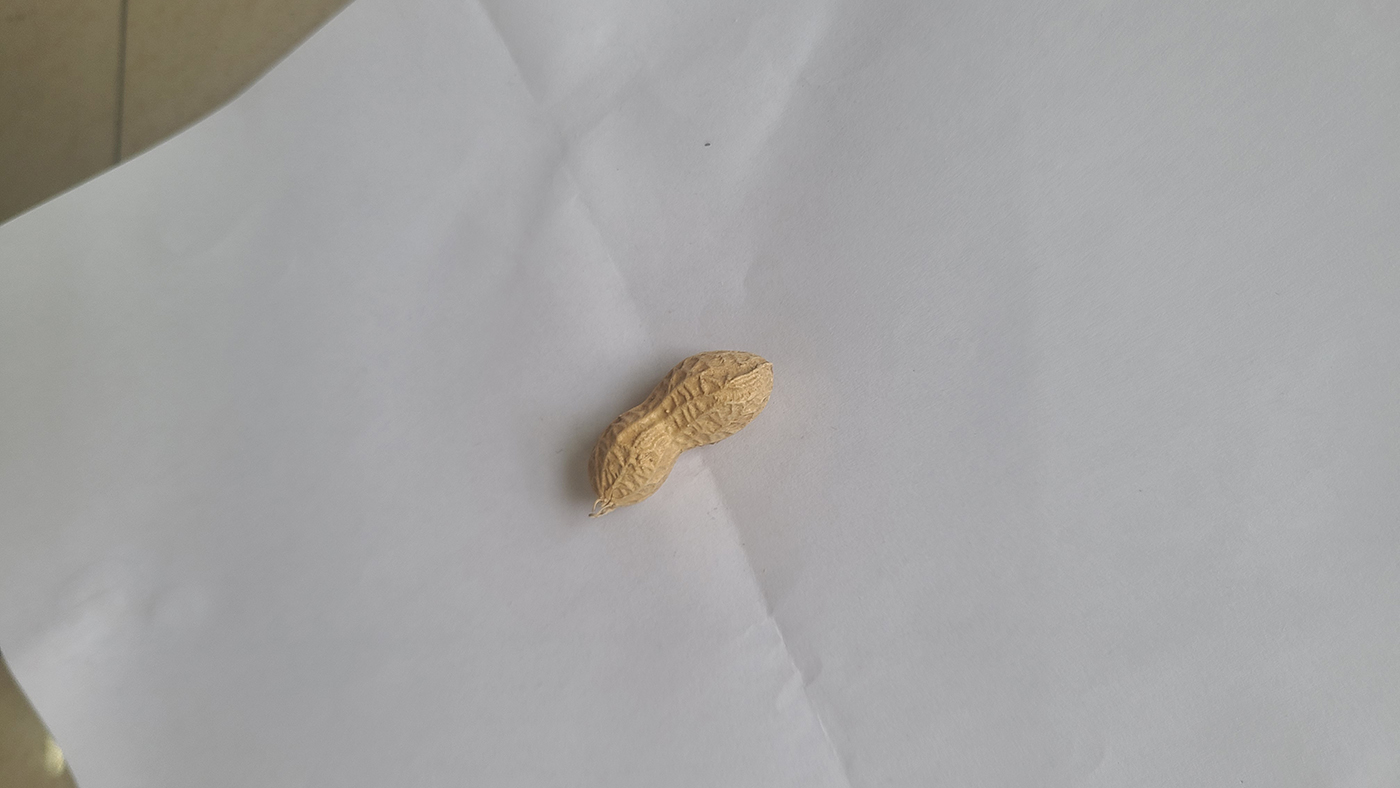h: (585, 346, 775, 512)
